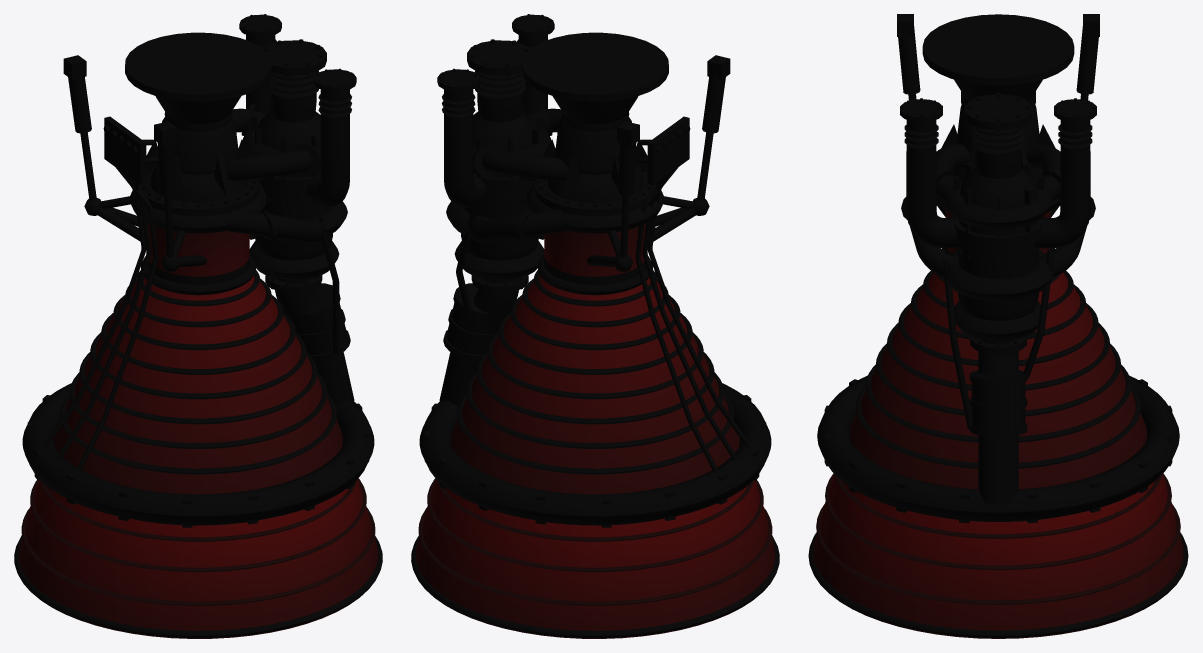
Rendered from eng_kerolox_giant.fbx.
3 renders of one model, left to right at view 1: azimuth 30°, elevation 25°; view 2: azimuth 150°, elevation 25°; view 3: azimuth 270°, elevation 25°, orthographic. The views are drawn at different scales.
Visible parts, largest first — view 1: eng_kerolox_giant_LOD0; view 2: eng_kerolox_giant_LOD0; view 3: eng_kerolox_giant_LOD0.
Part boxes in pixels (x1,y1,x2,y2): eng_kerolox_giant_LOD0: (14, 14, 382, 638); eng_kerolox_giant_LOD0: (411, 14, 779, 638); eng_kerolox_giant_LOD0: (808, 14, 1188, 638).
Size of what is drawn, in the model's own units: 3.76 by 5.6 by 3.76.
